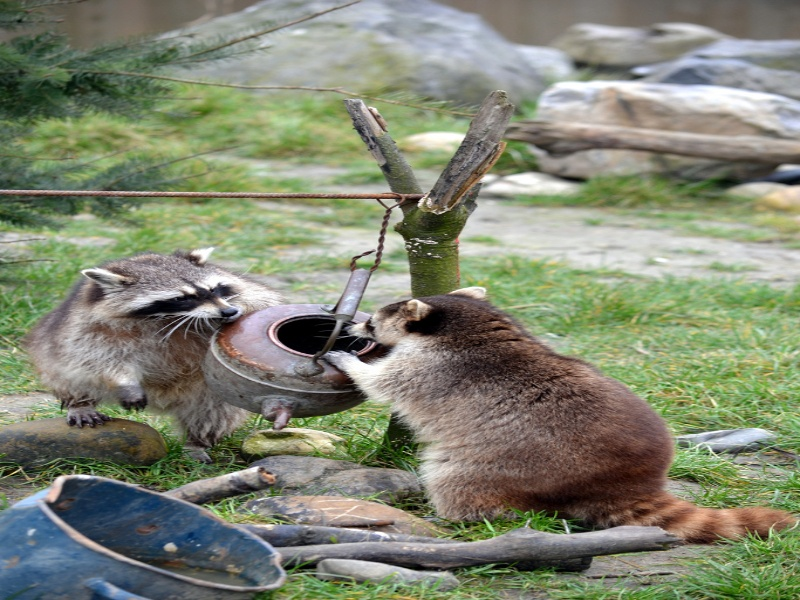raccoon: (324, 282, 793, 551), (21, 244, 301, 456)
